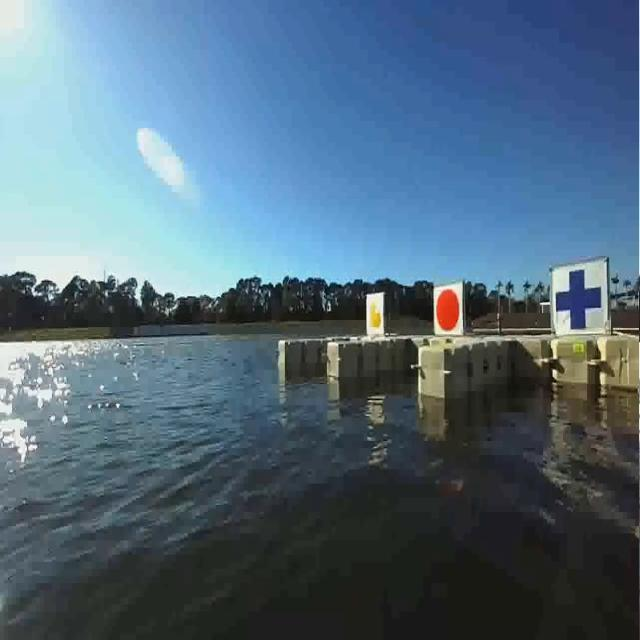blue-cross: (546, 259, 613, 334)
red-dot: (430, 273, 468, 344)
yellow-duck: (361, 288, 388, 336)
